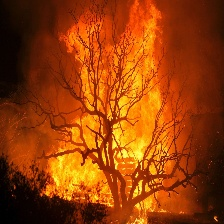fire: (52, 6, 176, 214)
smoke: (175, 4, 224, 197), (1, 2, 55, 162)
